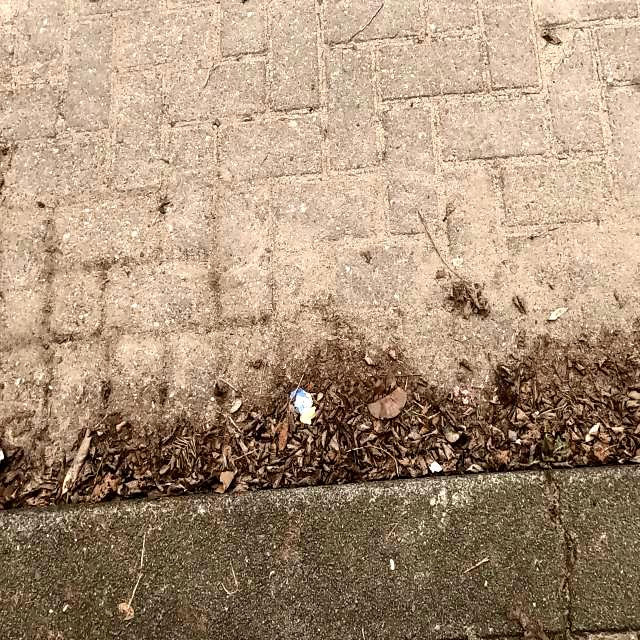Plastic: (292, 386, 318, 422)
